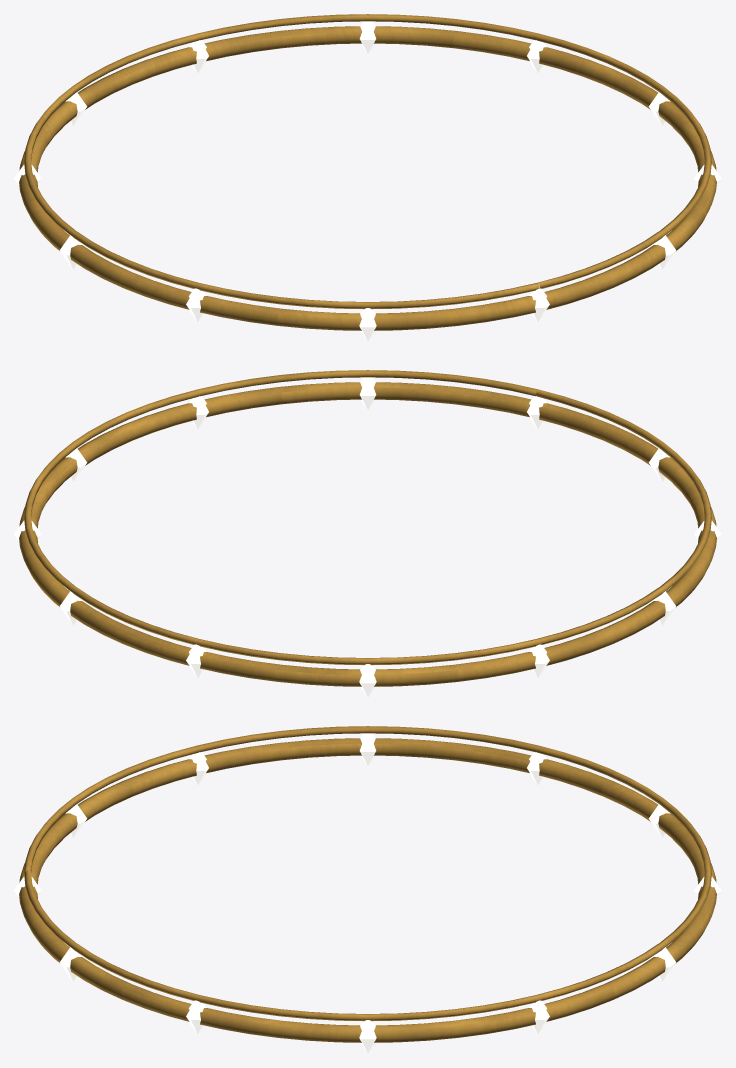
Rendered from lb_halo.glb.
The picture shows the model from 3 angles, top to bottom: view 1: azimuth 30°, elevation 25°; view 2: azimuth 150°, elevation 25°; view 3: azimuth 270°, elevation 25°; orthographic projection.
Visible parts, largest first — view 1: lb_halo; view 2: lb_halo; view 3: lb_halo.
Boxes of the visible parts, <box> form: lb_halo: <box>14,14,721,341</box>; lb_halo: <box>14,370,721,697</box>; lb_halo: <box>14,726,721,1053</box>.
Size of the model in its own units: 4.56 by 0.2838 by 4.58.
2 materials, 1 textured.
